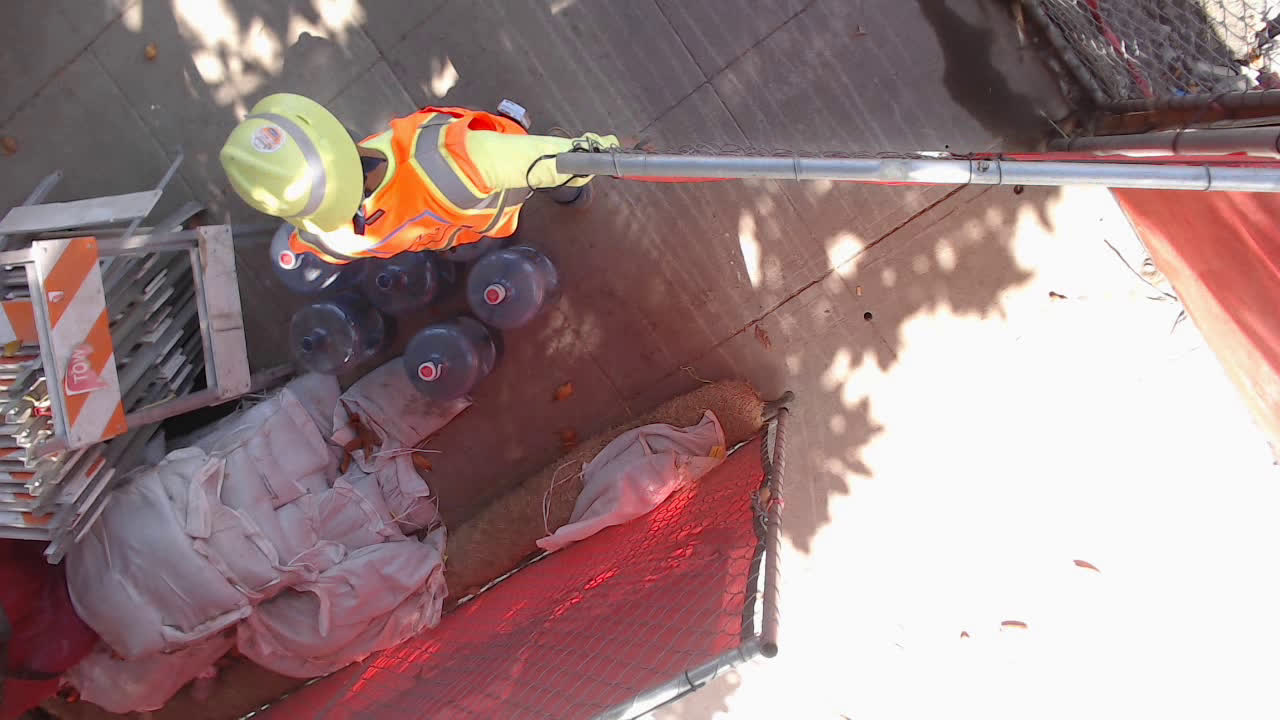hardhat: (219, 90, 360, 235)
safetyvest: (279, 106, 536, 255)
